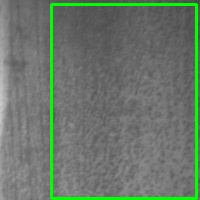pitted_surface: (51, 4, 196, 198)
